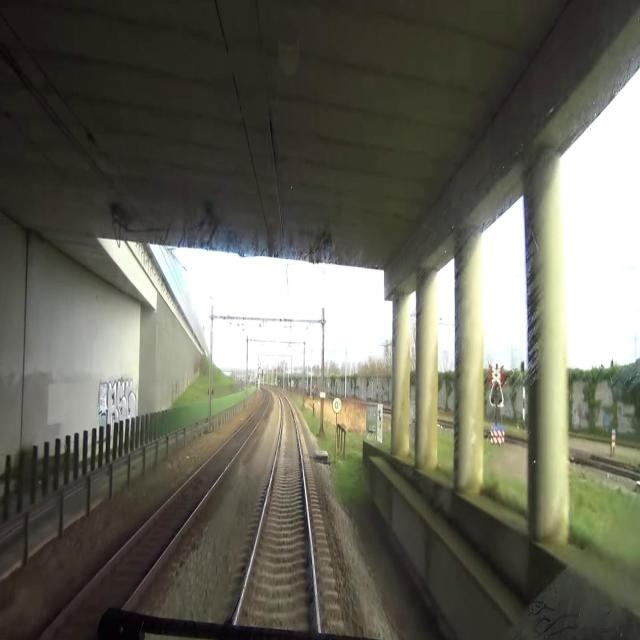rail-track: (238, 399, 316, 629)
